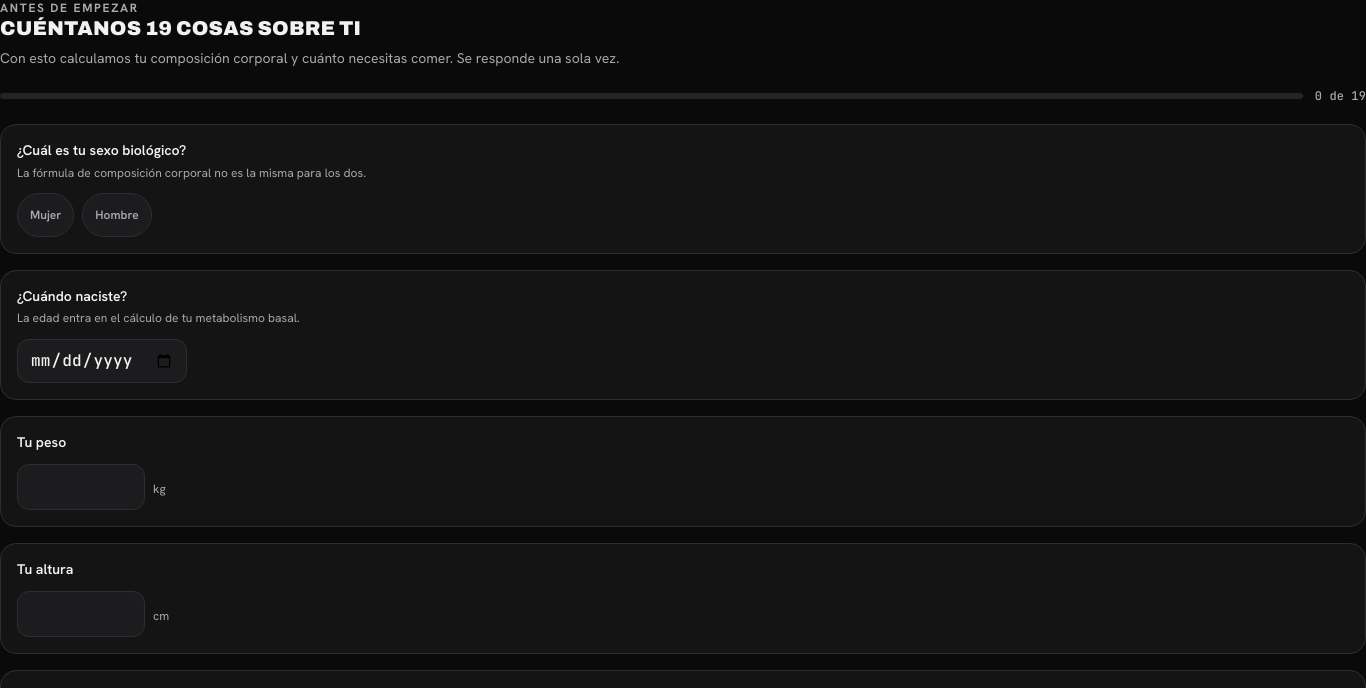
Test case: EncuestaNutricion › lo que depende de otras respuestas › la cadera aparece al marcar Mujer, sin recargar nada
The width and height of the screenshot is (1366, 688).
Click the button "Mujer": (46, 215) [17, 193, 74, 237]
(page scrolled)
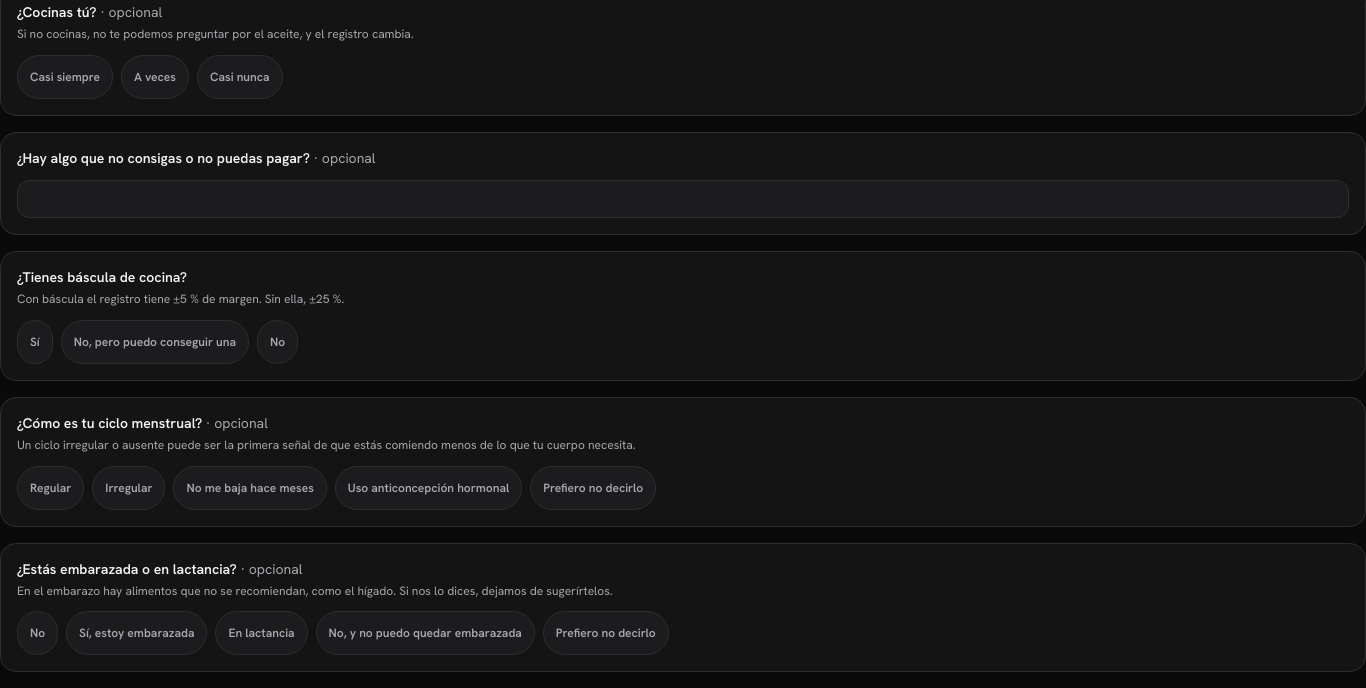
Expected: the text "¿Cómo es tu ciclo menstrual? · opcional" is shown, [17, 414, 268, 432]
